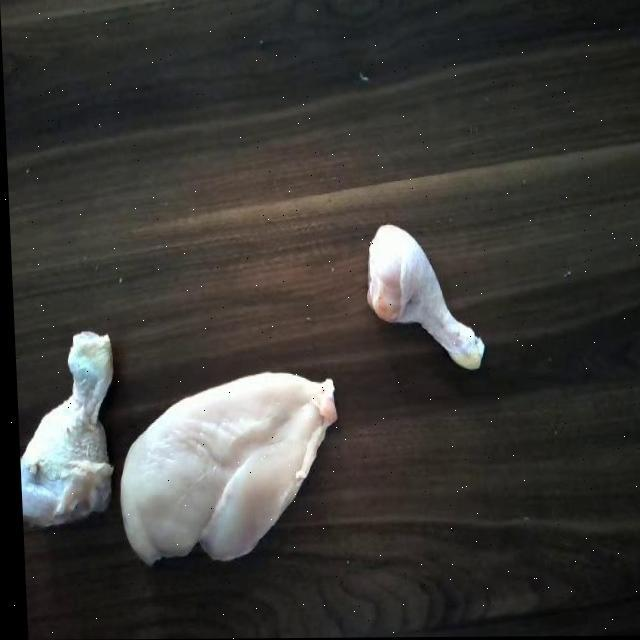breast: (109, 362, 349, 570)
leg: (354, 216, 482, 377), (15, 312, 110, 524)
